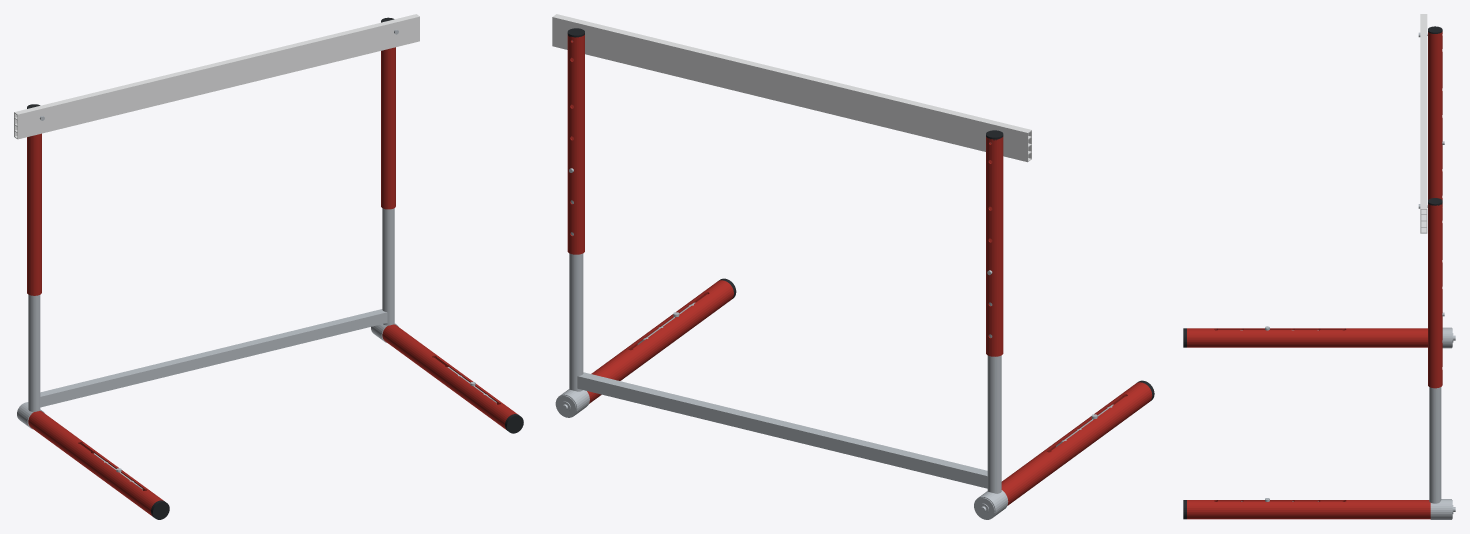
The model's file is NEW444_track_hurdle_LOD0.glb.
3 renders of one model, left to right at view 1: azimuth 30°, elevation 25°; view 2: azimuth 150°, elevation 25°; view 3: azimuth 270°, elevation 25°, orthographic. The views are drawn at different scales.
Parts seen in each view (by area): view 1: Open_ribbed_board, Low_connecting_member, L_foot_wall, R_foot_wall, R_moving_sleeve, L_moving_sleeve, L_fixed_upright, R_fixed_upright; view 2: Open_ribbed_board, Low_connecting_member, L_foot_wall, R_moving_sleeve, L_moving_sleeve, R_foot_wall, L_fixed_upright, R_fixed_upright; view 3: R_foot_wall, L_foot_wall, R_moving_sleeve, L_moving_sleeve, Open_ribbed_board, R_fixed_upright, R_rear_socket.
Boxes of the visible parts, x1,y1,x2,y2 form: Open_ribbed_board: (14,14,419,139); Low_connecting_member: (40,309,387,407); L_foot_wall: (28,411,163,516); R_foot_wall: (382,324,517,429); R_moving_sleeve: (381,47,395,209); L_moving_sleeve: (27,133,41,295); L_fixed_upright: (28,294,40,411); R_fixed_upright: (382,208,394,325); Open_ribbed_board: (552,14,1031,162); Low_connecting_member: (577,372,987,488); L_foot_wall: (1001,382,1152,505); R_moving_sleeve: (567,34,584,254); L_moving_sleeve: (986,137,1003,356); R_foot_wall: (587,280,733,403); L_fixed_upright: (987,302,1001,493); R_fixed_upright: (569,200,583,391); R_foot_wall: (1187,500,1430,519); L_foot_wall: (1187,328,1427,347); R_moving_sleeve: (1428,203,1442,388); L_moving_sleeve: (1428,31,1442,206); Open_ribbed_board: (1420,14,1427,233); R_fixed_upright: (1429,387,1441,503); R_rear_socket: (1430,499,1451,519).
Size of the model in its own units: 1.19 by 0.916 by 0.703.
